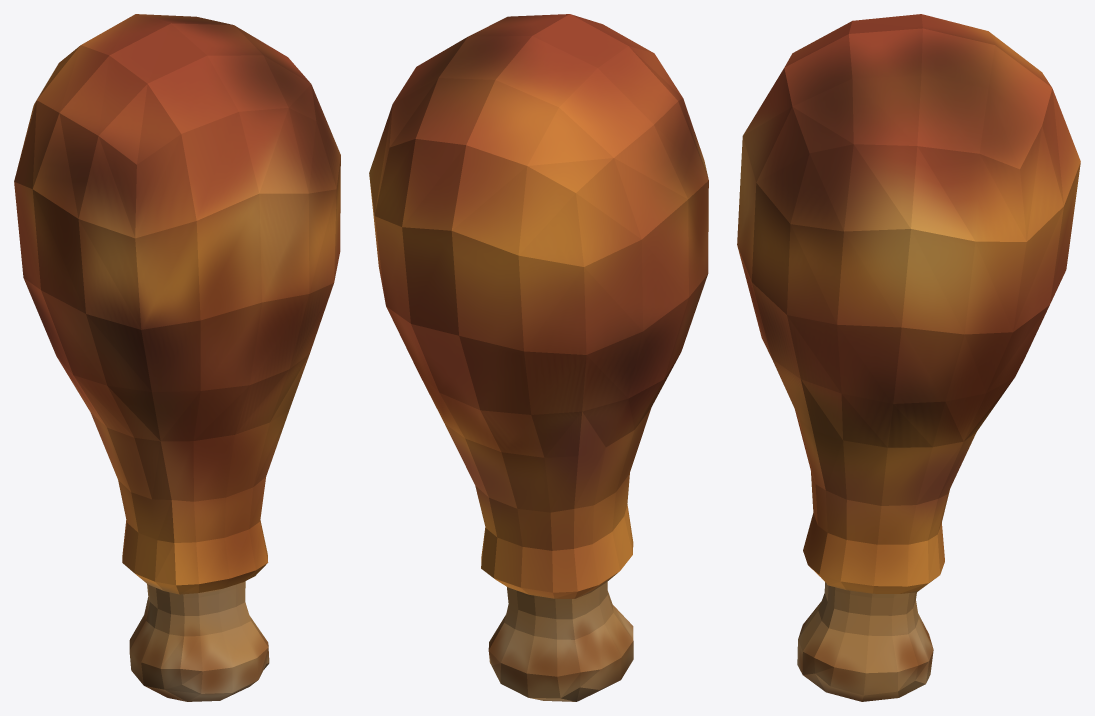
Rendered from chickenDrumstick.obj.
The picture shows the model from 3 angles, left to right: view 1: azimuth 30°, elevation 25°; view 2: azimuth 150°, elevation 25°; view 3: azimuth 270°, elevation 25°; orthographic projection. The views are drawn at different scales.
Bounding box in the file's own units: 0.8111 × 1.75 × 0.8217.
Materials: 1 (1 with a texture image).
